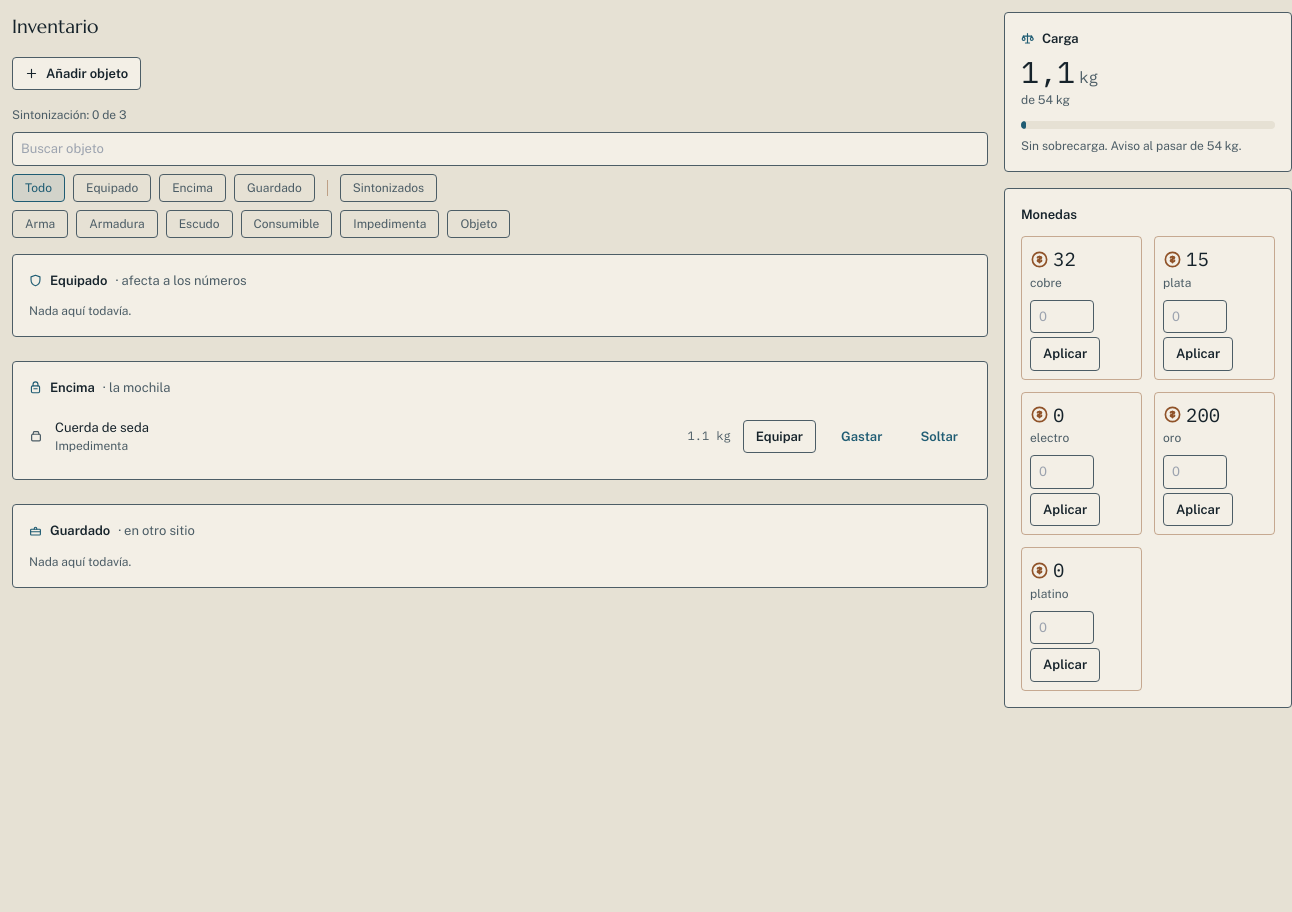
Test case: PaginaDeInventario › un 400 del servidor al equipar se enseña en línea y no borra la fila
Click the button "Equipar". click: (779, 436)
box: [743,420,816,453]
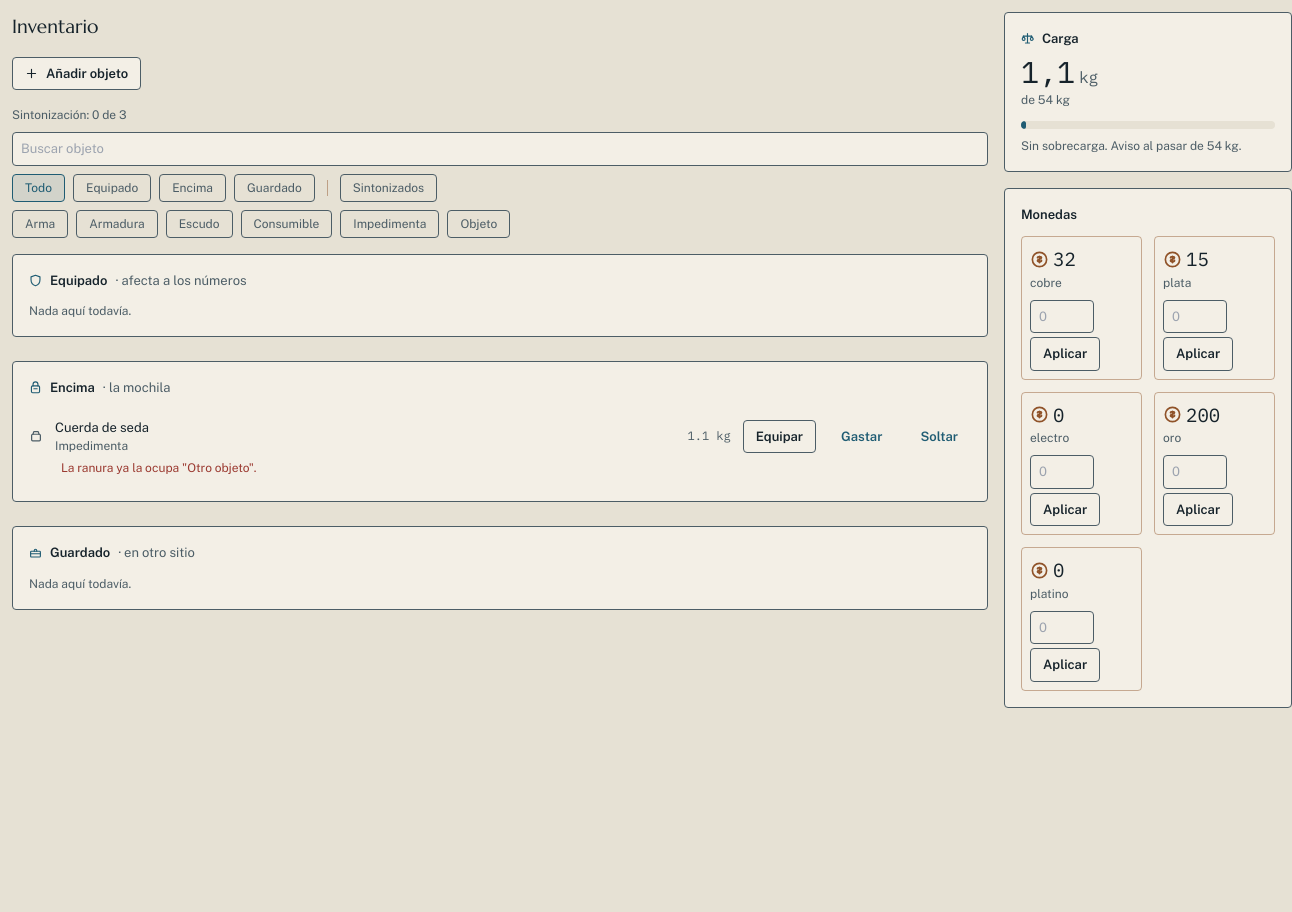
Expected: the text "Cuerda de seda" is shown, [55,420,149,434]
Now the message shows "La ranura ya la ocupa", box [61,461,256,475]
